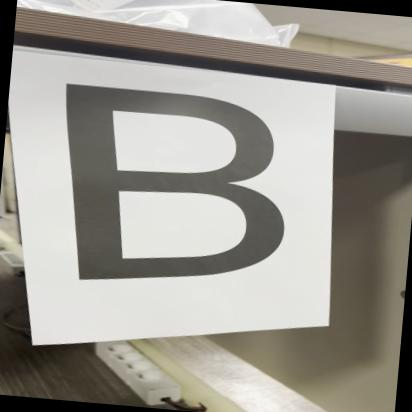seat: (29, 72, 318, 308)
